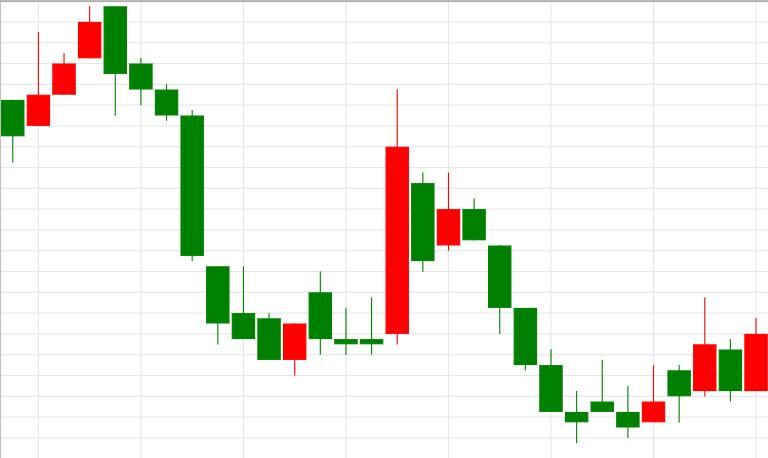bearish_engulfing_fall: (2, 5, 128, 162)
inverse_hammer_rise: (105, 6, 254, 344)
